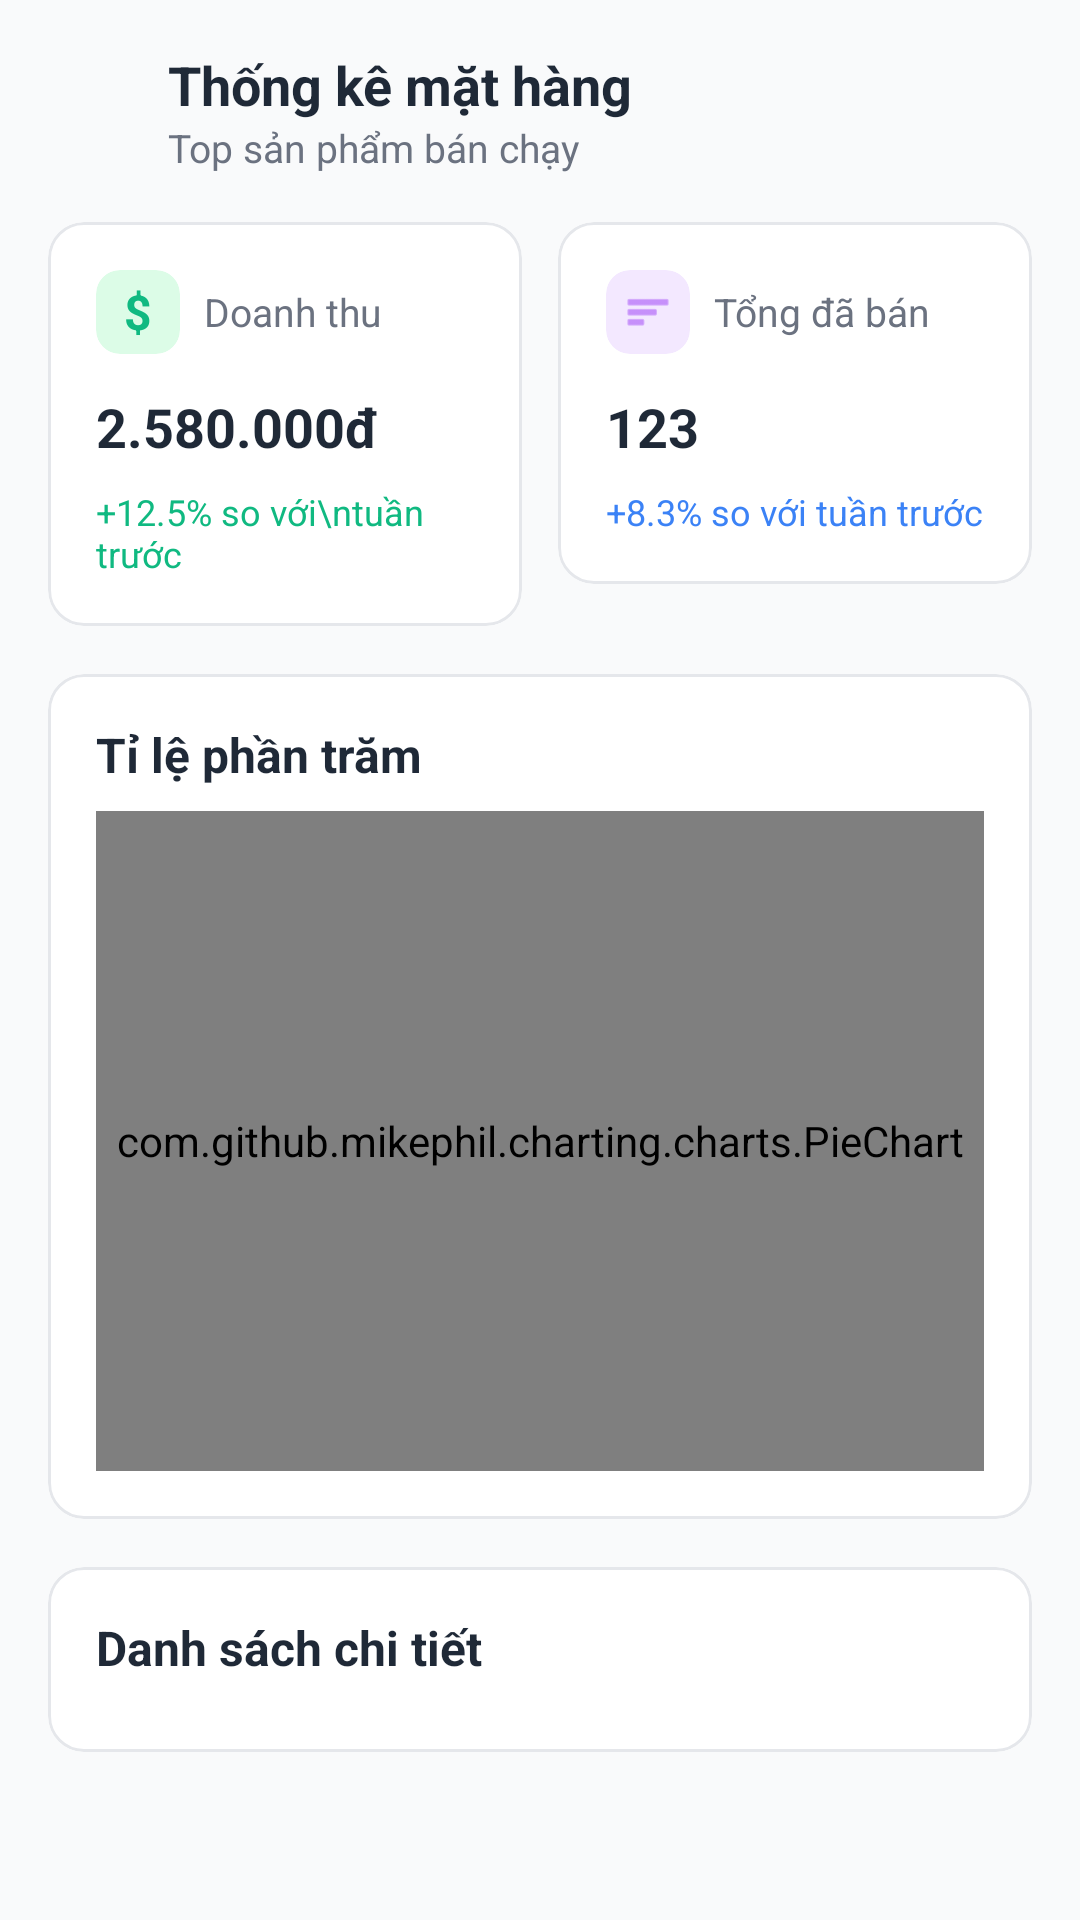

Where icons sit on this 1080px×1920px app screen, as (x1, y1, x2, y2):
sort by size: (627, 298, 669, 326)
